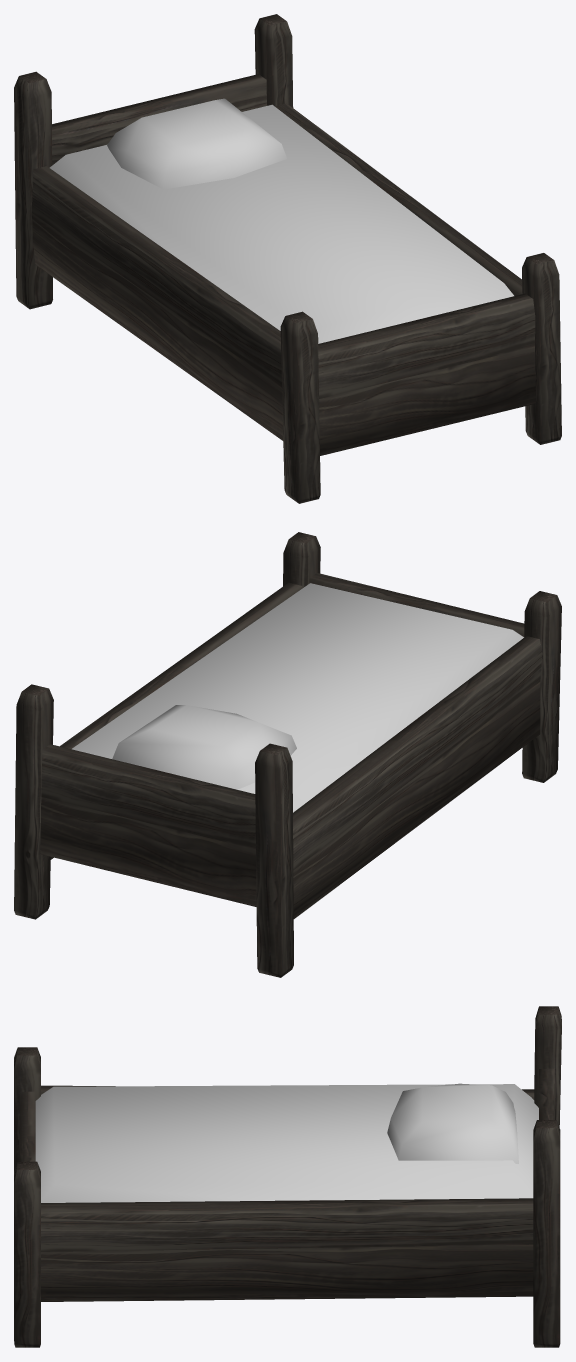
File: Bed.fbx
The picture shows the model from 3 angles, top to bottom: view 1: azimuth 30°, elevation 25°; view 2: azimuth 150°, elevation 25°; view 3: azimuth 270°, elevation 25°; orthographic projection. The views are drawn at different scales.
Visible parts, largest first — view 1: bed_frame, bed; view 2: bed_frame, bed; view 3: bed_frame, bed.
Boxes of the visible parts, left/top/right/bottom form: bed_frame: left=14, top=14, right=561, bottom=503; bed: left=49, top=98, right=513, bottom=343; bed_frame: left=14, top=532, right=561, bottom=977; bed: left=72, top=583, right=523, bottom=812; bed_frame: left=14, top=1006, right=561, bottom=1347; bed: left=35, top=1083, right=538, bottom=1202.
Bounding box in the file's own units: 1.57 × 1.25 × 2.86.
